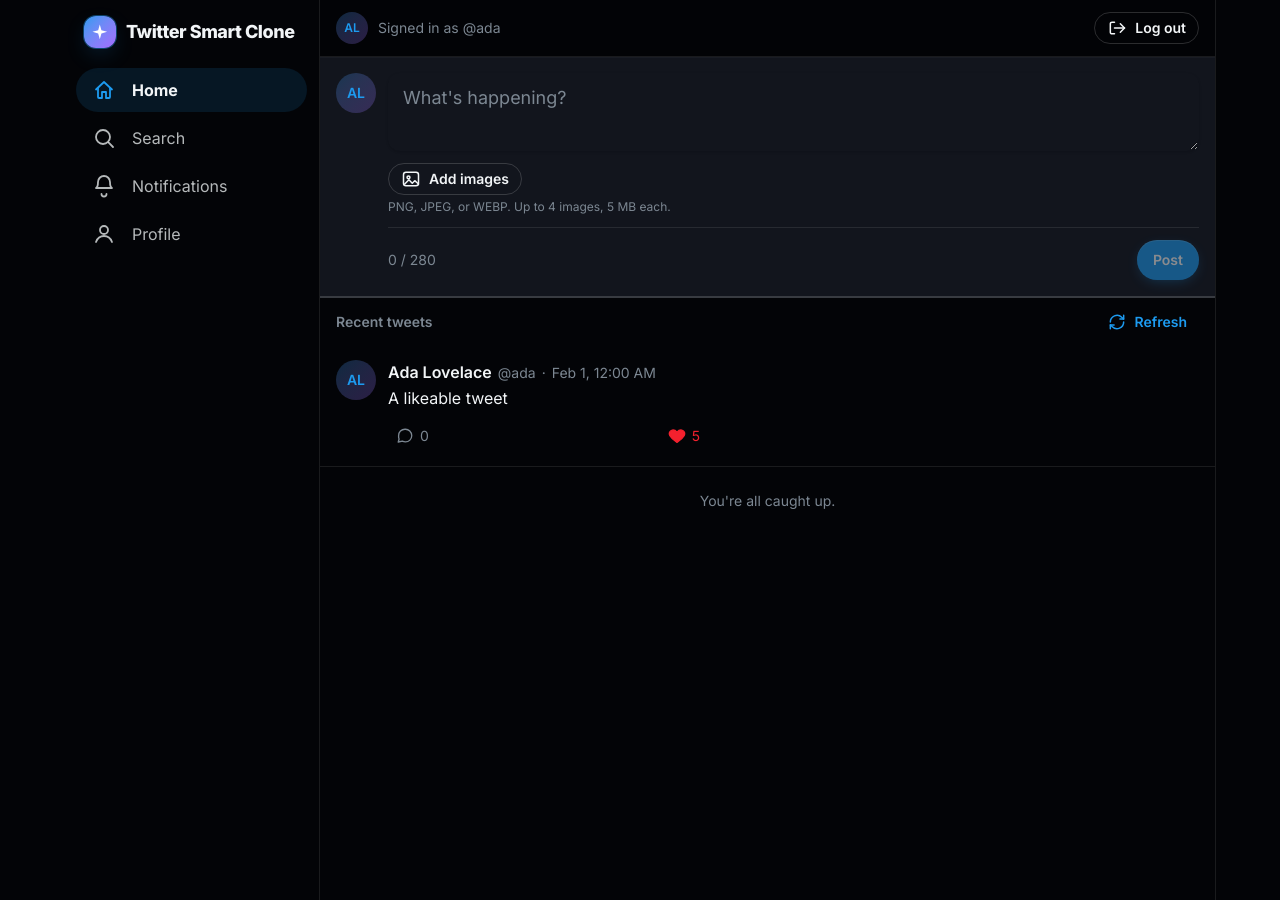
Test: LikeButton › unlikes a previously-liked tweet
This screenshot has width=1280, height=900.
What coordinates should you click on to do the following:
click the button named "Liked, 5 likes"
I would click on:
 (684, 436)
Its box is [660,420,708,452].
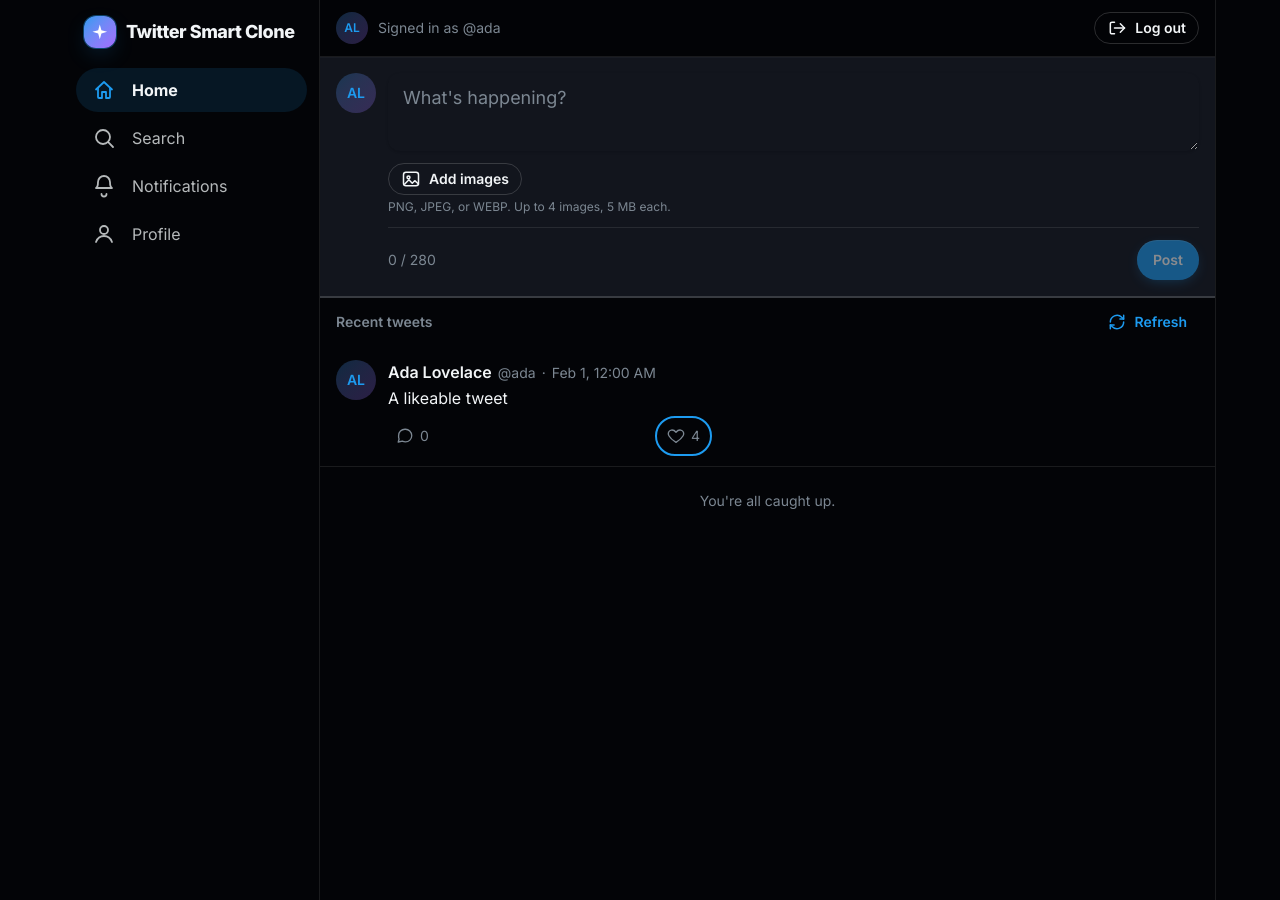
Now the button named "Like, 4 likes" is shown, box [659,420,708,452]
